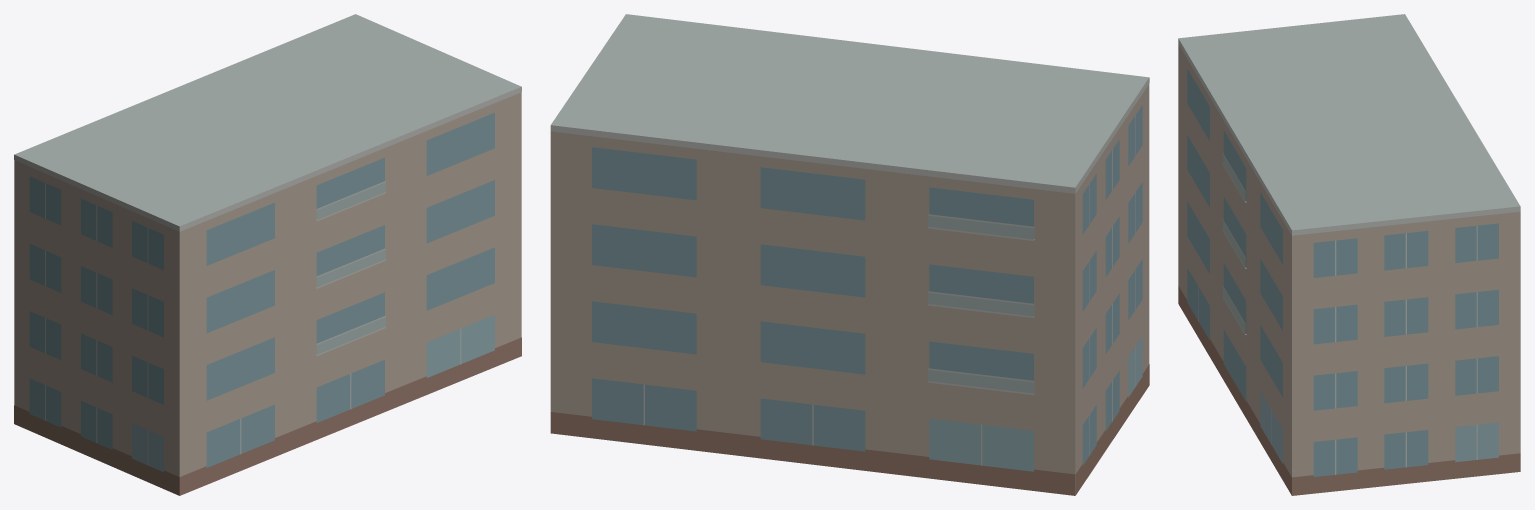
The model's file is survey-upis-32703193.glb.
The picture shows the model from 3 angles, left to right: view 1: azimuth 30°, elevation 25°; view 2: azimuth 150°, elevation 25°; view 3: azimuth 270°, elevation 25°; orthographic projection. The views are drawn at different scales.
Parts seen in each view (by area): view 1: survey-upis-32703193.tmp; view 2: survey-upis-32703193.tmp; view 3: survey-upis-32703193.tmp.
Boxes of the visible parts, x1,y1,x2,y2 form: survey-upis-32703193.tmp: [14, 14, 521, 495]; survey-upis-32703193.tmp: [550, 14, 1149, 495]; survey-upis-32703193.tmp: [1178, 14, 1520, 495].
Bounding box in the file's own units: 21.35 × 12.2 × 14.27.
